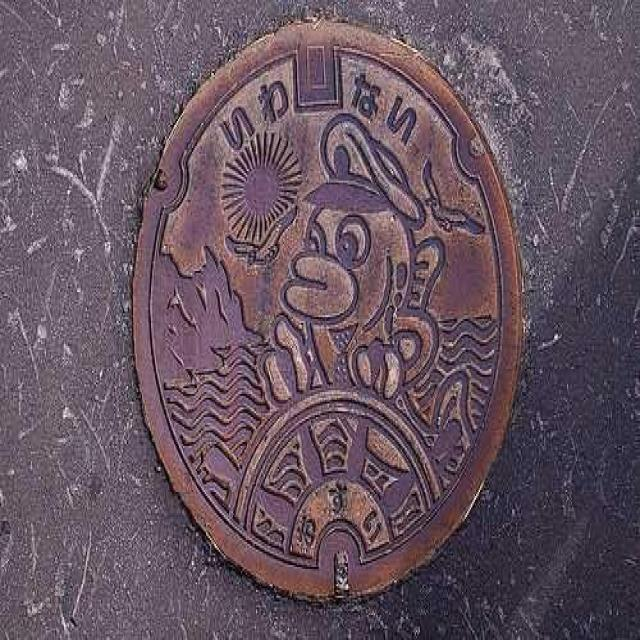manhole: (134, 23, 522, 598)
